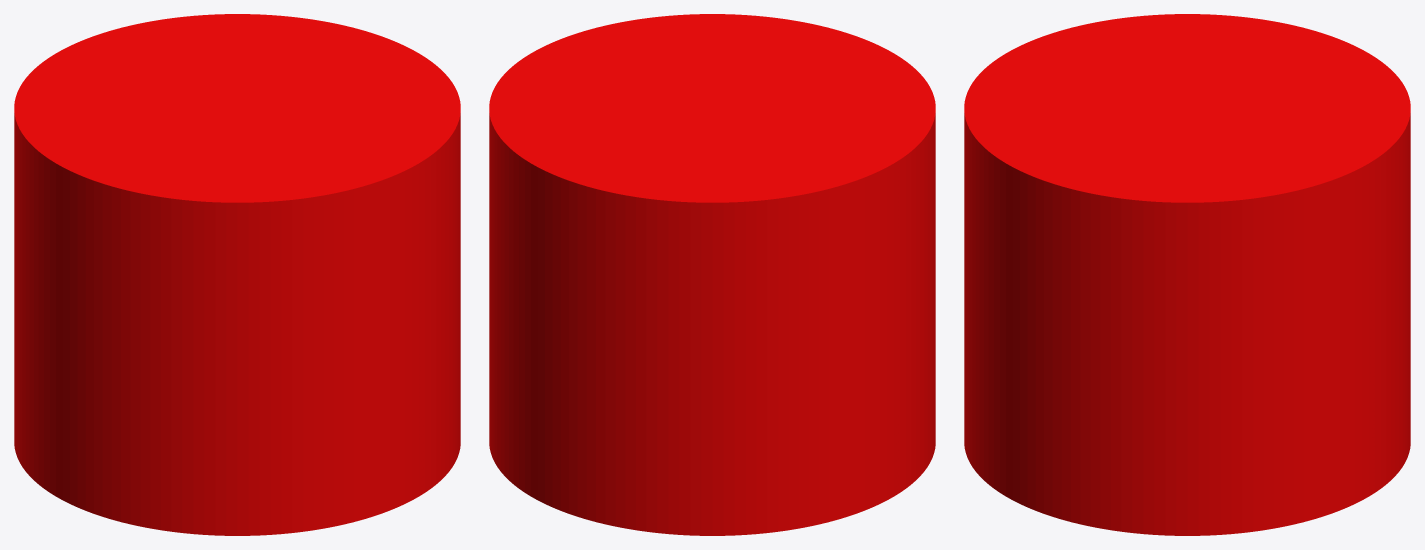
The model's file is scanbot_s08_z_cyl_link.dae.
3 views of the same model, side by side, from view 1: azimuth 30°, elevation 25°; view 2: azimuth 150°, elevation 25°; view 3: azimuth 270°, elevation 25° (orthographic).
Parts seen in each view (by area): view 1: node0; view 2: node0; view 3: node0.
Boxes of the visible parts, left/top/right/bottom form: node0: left=14, top=14, right=460, bottom=535; node0: left=489, top=14, right=935, bottom=535; node0: left=964, top=14, right=1410, bottom=535.
Bounding box in the file's own units: 0.0389 × 0.0389 × 0.032.
